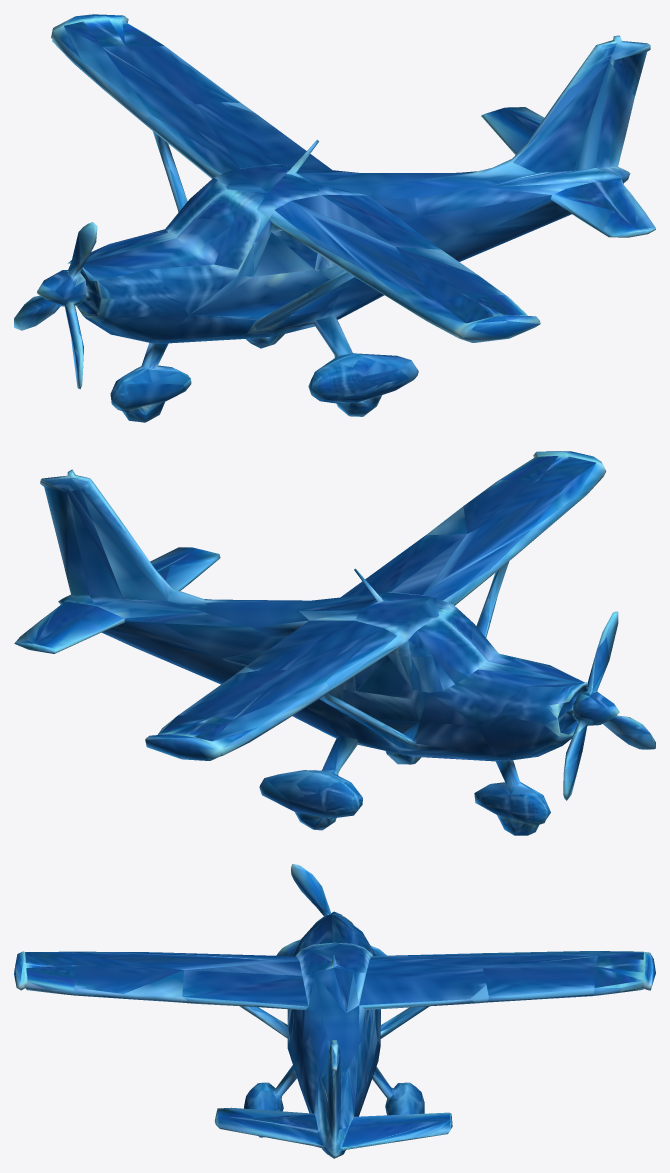
File: petit-avion.glb
3 renders of one model, top to bottom at view 1: azimuth 30°, elevation 25°; view 2: azimuth 150°, elevation 25°; view 3: azimuth 270°, elevation 25°, orthographic. The views are drawn at different scales.
Visible parts, largest first — view 1: Mesh_0; view 2: Mesh_0; view 3: Mesh_0.
Part boxes in pixels (<box>): Mesh_0: <box>14,14,655,422</box>; Mesh_0: <box>14,451,655,835</box>; Mesh_0: <box>14,864,655,1158</box>.
Bounding box in the file's own units: 0.8421 × 0.3554 × 1.
1 material, 1 textured.
